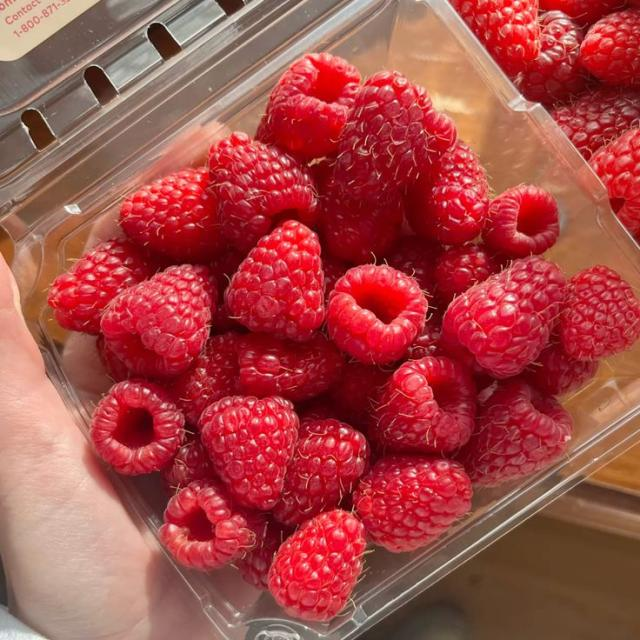raspberry: (334, 72, 456, 199), (442, 257, 566, 378), (209, 133, 319, 251), (101, 266, 216, 378), (458, 379, 572, 486), (225, 221, 325, 341), (354, 455, 472, 553), (199, 396, 299, 510), (257, 54, 360, 158), (269, 510, 366, 620), (370, 357, 476, 453), (48, 240, 155, 334), (274, 420, 369, 525), (327, 265, 427, 364), (120, 168, 223, 262), (159, 480, 264, 570), (90, 380, 184, 474), (406, 141, 489, 245), (560, 266, 639, 360), (236, 333, 344, 401), (320, 184, 404, 264), (168, 332, 240, 425), (451, 0, 539, 76), (517, 12, 588, 106), (553, 89, 639, 159), (483, 186, 559, 258), (590, 129, 639, 235), (580, 9, 639, 86), (328, 361, 390, 430), (235, 520, 293, 590), (523, 342, 598, 395), (435, 244, 499, 303), (162, 434, 215, 495), (385, 236, 437, 293), (540, 0, 625, 24), (207, 247, 246, 293), (96, 335, 131, 381), (322, 249, 350, 299), (407, 320, 441, 359), (296, 394, 338, 425), (212, 298, 246, 334), (307, 155, 335, 194)
